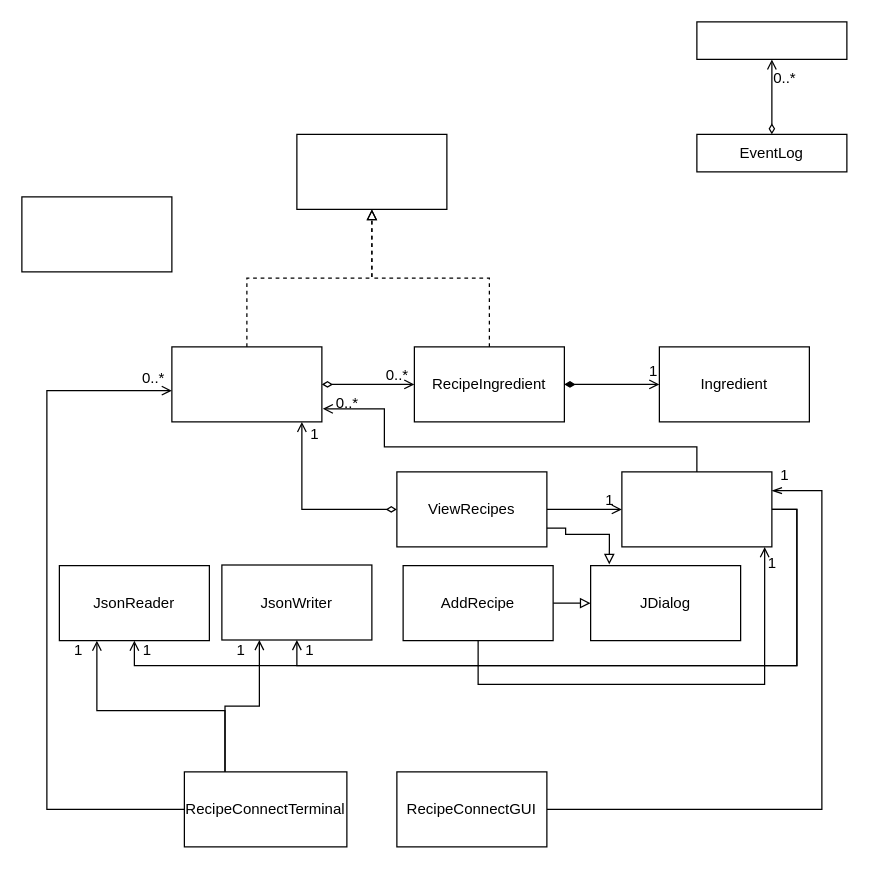
Image size: 869x869. Some labels were removed from this diagram. Here are the shapes that lost their labels. From the top down, the centre of each, then its label:
At point (771, 40): "Event".
At point (371, 171): "<<Interface>> Writable".
At point (96, 234): "Main".
At point (246, 384): "Recipe".
At point (696, 509): "RecipeConnect".
